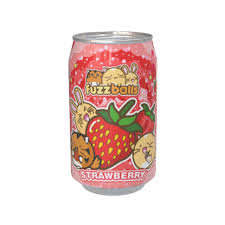can: (70, 29, 156, 196)
